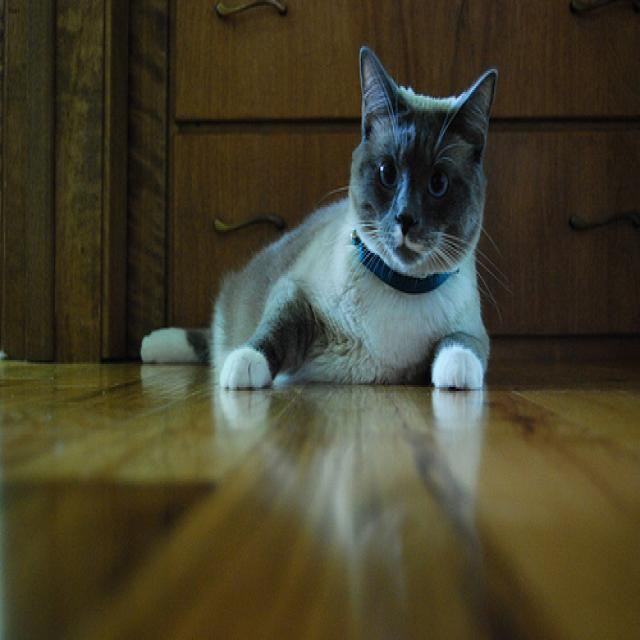Birman: (343, 44, 500, 294)
